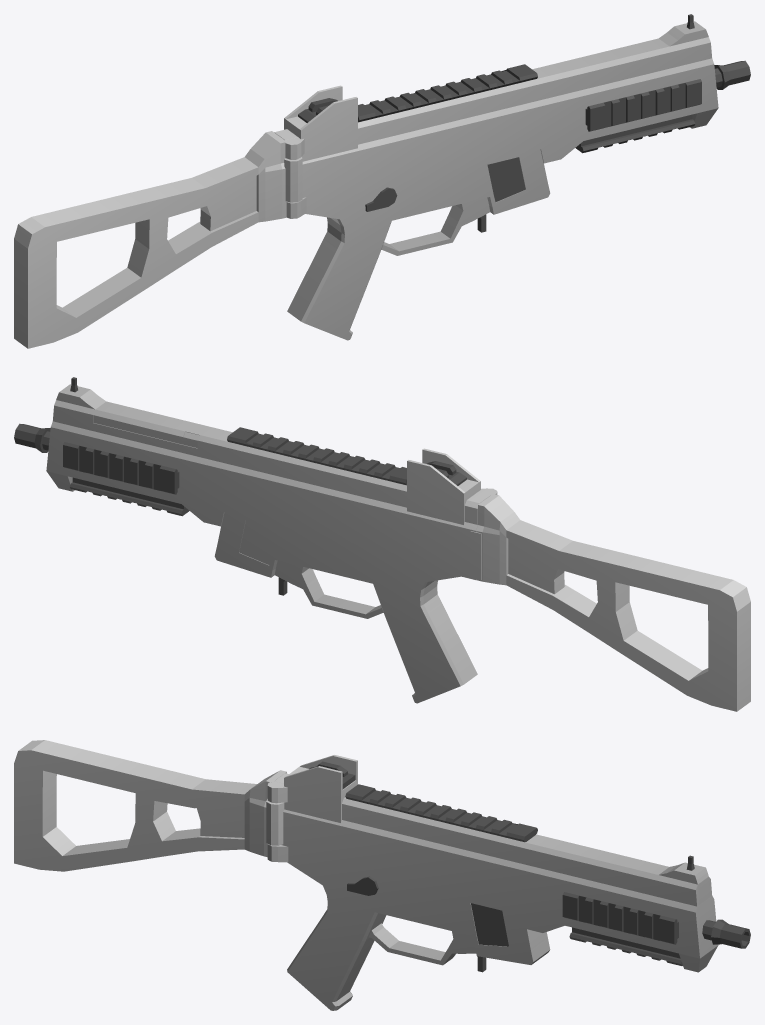
Rendered from SMG6_02.fbx.
3 views of the same model, one above another, from view 1: azimuth 30°, elevation 25°; view 2: azimuth 150°, elevation 25°; view 3: azimuth 330°, elevation 25° (orthographic).
Visible parts, largest first — view 1: SMG6_02; view 2: SMG6_02; view 3: SMG6_02.
Boxes of the visible parts, left/top/right/bottom form: SMG6_02: left=14, top=14, right=750, bottom=348; SMG6_02: left=14, top=377, right=750, bottom=711; SMG6_02: left=14, top=740, right=750, bottom=1010.
Size of the model in its own units: 0.7193 by 0.2278 by 0.0477.
